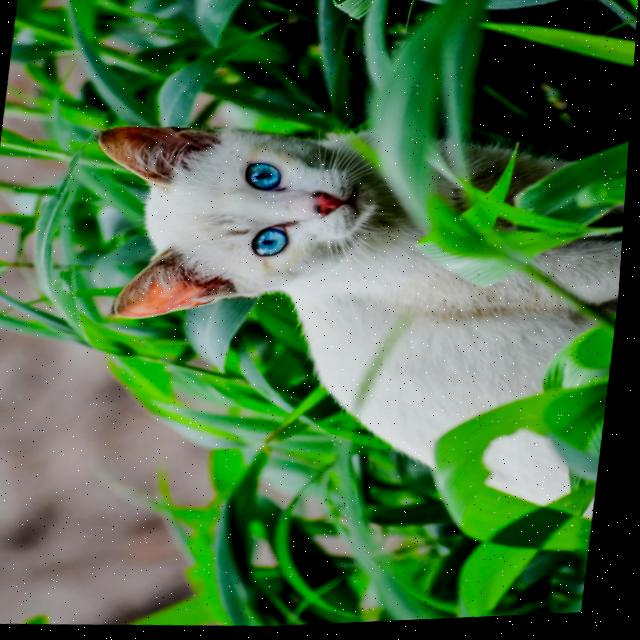Khao Manee: (51, 103, 633, 556)
